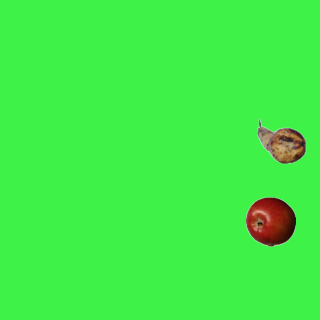Apple Braeburn: (245, 196, 295, 246)
Pear Abate: (256, 116, 306, 166)
